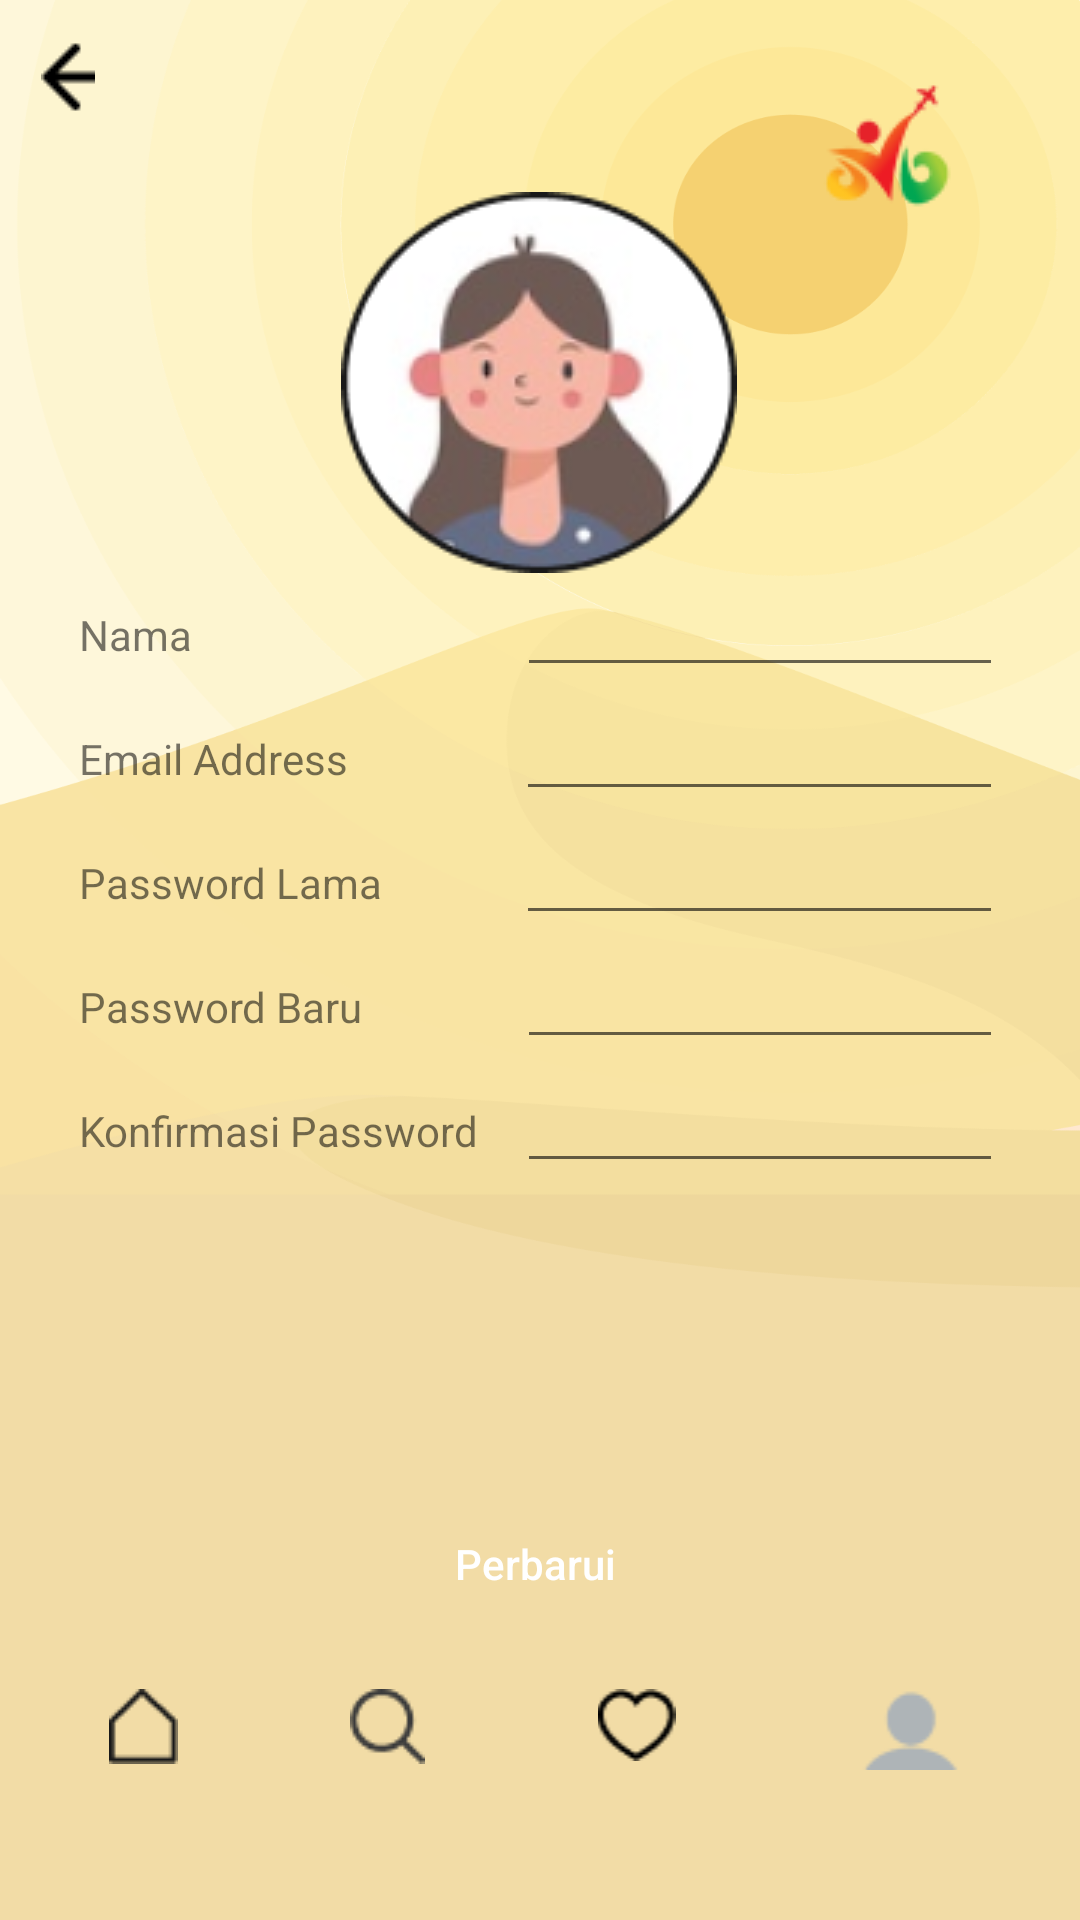

Screen size 1080px×1920px. Icon name, then its center in pixels as point (x, y):
arrow back: point (68, 77)
home: point (143, 1726)
like: point (637, 1725)
person: point (911, 1731)
search: point (387, 1726)
